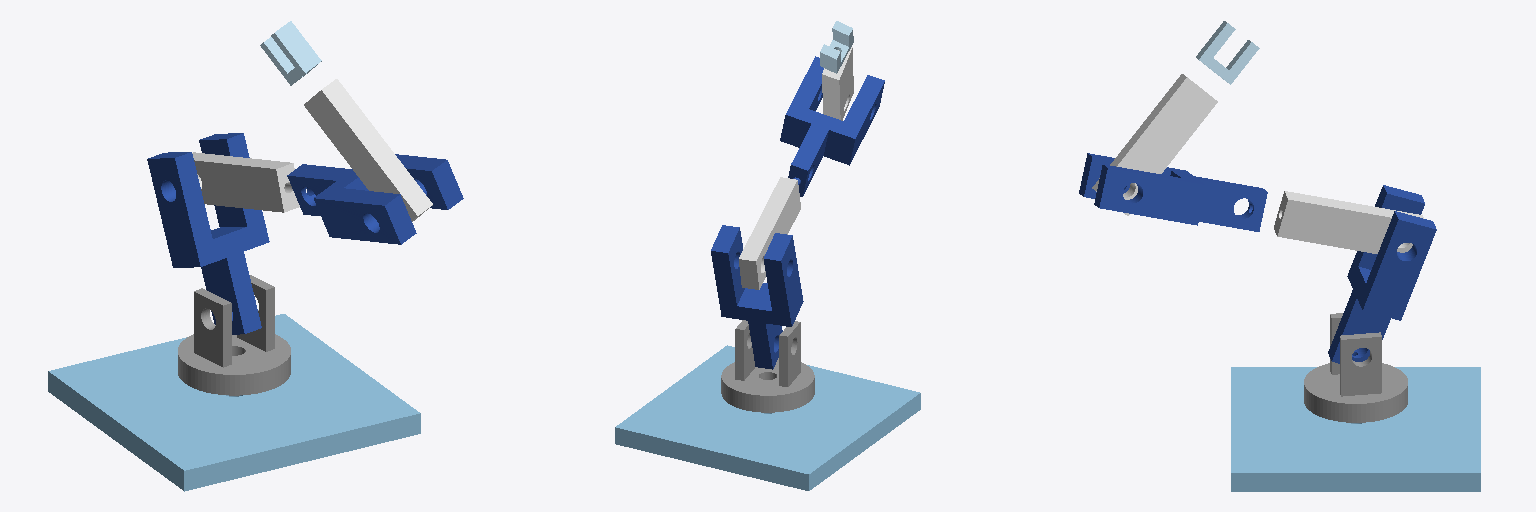
robot.urdf — mybot:
<?xml version="1.0" ?>
<!-- Generated using onshape-to-robot -->
<!-- Onshape document_id: 4af8569930bfdc776139afc6 -->
<robot name="mybot">
  <!-- Link base -->
  <link name="base">
    <inertial>
      <origin xyz="-0.0595984 0.133273 0.0193778" rpy="0 0 0"/>
      <mass value="0.375499"/>
      <inertia ixx="0.00294313" ixy="0" ixz="0" iyy="0.00294313" iyz="0" izz="0.00584588"/>
    </inertial>
    <!-- Part base -->
    <visual>
      <origin xyz="-0.0595984 0.133273 0.00667784" rpy="0 -0 0"/>
      <geometry>
        <mesh filename="package://assets/base.stl"/>
      </geometry>
      <material name="base_material">
        <color rgba="0.615686 0.811765 0.929412 1"/>
      </material>
    </visual>
    <collision>
      <origin xyz="-0.0595984 0.133273 0.00667784" rpy="0 -0 0"/>
      <geometry>
        <mesh filename="package://assets/base.stl"/>
      </geometry>
    </collision>
  </link>
  <!-- Link swivle -->
  <link name="swivle">
    <inertial>
      <origin xyz="-0 -0 -0.0232936" rpy="0 0 0"/>
      <mass value="0.0630945"/>
      <inertia ixx="9.0513e-05" ixy="-0" ixz="0" iyy="0.000101179" iyz="0" izz="0.000120893"/>
    </inertial>
    <!-- Part swivle -->
    <visual>
      <origin xyz="-0 -0 0.0508" rpy="3.14159 -0 -0"/>
      <geometry>
        <mesh filename="package://assets/swivle.stl"/>
      </geometry>
      <material name="swivle_material">
        <color rgba="0.647059 0.647059 0.647059 1"/>
      </material>
    </visual>
    <collision>
      <origin xyz="-0 -0 0.0508" rpy="3.14159 -0 -0"/>
      <geometry>
        <mesh filename="package://assets/swivle.stl"/>
      </geometry>
    </collision>
  </link>
  <!-- Link arm1 -->
  <link name="arm1">
    <inertial>
      <origin xyz="-0.0757655 -0.0589887 -0.0127" rpy="0 0 0"/>
      <mass value="0.074836"/>
      <inertia ixx="0.000166028" ixy="-9.36746e-05" ixz="-1e-12" iyy="0.000213413" iyz="-2e-12" izz="0.000227704"/>
    </inertial>
    <!-- Part arm1 -->
    <visual>
      <origin xyz="0 0.127 -0.0127" rpy="1.5708 1.5708 0"/>
      <geometry>
        <mesh filename="package://assets/arm1.stl"/>
      </geometry>
      <material name="arm1_material">
        <color rgba="0.231373 0.380392 0.705882 1"/>
      </material>
    </visual>
    <collision>
      <origin xyz="0 0.127 -0.0127" rpy="1.5708 1.5708 0"/>
      <geometry>
        <mesh filename="package://assets/arm1.stl"/>
      </geometry>
    </collision>
  </link>
  <!-- Link arm2 -->
  <link name="arm2">
    <inertial>
      <origin xyz="-0.0543508 -0.0377625 -0.0127" rpy="0 0 0"/>
      <mass value="0.0341329"/>
      <inertia ixx="3.48126e-05" ixy="-3.61968e-05" ixz="-0" iyy="6.17606e-05" iyz="0" izz="9.2858e-05"/>
    </inertial>
    <!-- Part arm2 -->
    <visual>
      <origin xyz="0.120251 0.220624 -0.0127" rpy="1.5708 1.5708 0"/>
      <geometry>
        <mesh filename="package://assets/arm2.stl"/>
      </geometry>
      <material name="arm2_material">
        <color rgba="0.917647 0.917647 0.917647 1"/>
      </material>
    </visual>
    <collision>
      <origin xyz="0.120251 0.220624 -0.0127" rpy="1.5708 1.5708 0"/>
      <geometry>
        <mesh filename="package://assets/arm2.stl"/>
      </geometry>
    </collision>
  </link>
  <!-- Link arm1_2 -->
  <link name="arm1_2">
    <inertial>
      <origin xyz="5.93e-10 3.449e-09 -0.146821" rpy="0 0 0"/>
      <mass value="0.074836"/>
      <inertia ixx="0.000231417" ixy="1.42814e-05" ixz="-6e-12" iyy="0.000282632" iyz="-2.9e-11" izz="9.30962e-05"/>
    </inertial>
    <!-- Part arm1_2 -->
    <visual>
      <origin xyz="0.0252163 0.0969847 0.0272198" rpy="2.23233 -0 -0.254371"/>
      <geometry>
        <mesh filename="package://assets/arm1.stl"/>
      </geometry>
      <material name="arm1_2_material">
        <color rgba="0.231373 0.380392 0.705882 1"/>
      </material>
    </visual>
    <collision>
      <origin xyz="0.0252163 0.0969847 0.0272198" rpy="2.23233 -0 -0.254371"/>
      <geometry>
        <mesh filename="package://assets/arm1.stl"/>
      </geometry>
    </collision>
  </link>
  <!-- Link arm2_2 -->
  <link name="arm2_2">
    <inertial>
      <origin xyz="-0.0543508 -0.0377625 -0.0127" rpy="0 0 0"/>
      <mass value="0.0341329"/>
      <inertia ixx="3.48126e-05" ixy="-3.61968e-05" ixz="0" iyy="6.17606e-05" iyz="0" izz="9.2858e-05"/>
    </inertial>
    <!-- Part arm2_2 -->
    <visual>
      <origin xyz="0.120251 0.220624 -0.0127" rpy="1.5708 1.5708 0"/>
      <geometry>
        <mesh filename="package://assets/arm2.stl"/>
      </geometry>
      <material name="arm2_2_material">
        <color rgba="0.917647 0.917647 0.917647 1"/>
      </material>
    </visual>
    <collision>
      <origin xyz="0.120251 0.220624 -0.0127" rpy="1.5708 1.5708 0"/>
      <geometry>
        <mesh filename="package://assets/arm2.stl"/>
      </geometry>
    </collision>
  </link>
  <!-- Link hand -->
  <link name="hand">
    <inertial>
      <origin xyz="-0 -0 -0.0252044" rpy="0 0 0"/>
      <mass value="0.00695227"/>
      <inertia ixx="2.44576e-06" ixy="-0" ixz="0" iyy="4.34857e-06" iyz="-0" izz="2.67285e-06"/>
    </inertial>
    <!-- Part hand -->
    <visual>
      <origin xyz="0.00580608 0.15067 0.407774" rpy="2.17802 -0 -0"/>
      <geometry>
        <mesh filename="package://assets/hand.stl"/>
      </geometry>
      <material name="hand_material">
        <color rgba="0.768627 0.886275 0.952941 1"/>
      </material>
    </visual>
    <collision>
      <origin xyz="0.00580608 0.15067 0.407774" rpy="2.17802 -0 -0"/>
      <geometry>
        <mesh filename="package://assets/hand.stl"/>
      </geometry>
    </collision>
  </link>
  <!-- Joint from arm2_2 to hand -->
  <joint name="wrist5" type="revolute">
    <origin xyz="-0.146016 -0.101451 -0.0127" rpy="1.5708 -0.103846 2.17802"/>
    <parent link="arm2_2"/>
    <child link="hand"/>
    <axis xyz="0 0 1"/>
    <limit effort="10" velocity="10" lower="-3.141592653589793" upper="3.141592653589793"/>
  </joint>
  <!-- Joint from arm1_2 to arm2_2 -->
  <joint name="joint4" type="revolute">
    <origin xyz="-0.0122913 0.00319579 -0.2032" rpy="1.5708 1.08193 -1.82517"/>
    <parent link="arm1_2"/>
    <child link="arm2_2"/>
    <axis xyz="0 0 1"/>
    <limit effort="10" velocity="10" lower="-3.141592653589793" upper="3.141592653589793"/>
  </joint>
  <!-- Joint from arm2 to arm1_2 -->
  <joint name="wrist3" type="revolute">
    <origin xyz="-0.125156 -0.0869577 -0.0127" rpy="-0.607222 1.5708 0"/>
    <parent link="arm2"/>
    <child link="arm1_2"/>
    <axis xyz="0 0 1"/>
    <limit effort="10" velocity="10" lower="-3.141592653589793" upper="3.141592653589793"/>
  </joint>
  <!-- Joint from arm1 to arm2 -->
  <joint name="joint2" type="revolute">
    <origin xyz="-0.120251 -0.0936238 -0" rpy="0 0 1.71304"/>
    <parent link="arm1"/>
    <child link="arm2"/>
    <axis xyz="0 0 1"/>
    <limit effort="10" velocity="10" lower="-3.141592653589793" upper="3.141592653589793"/>
  </joint>
  <!-- Joint from swivle to arm1 -->
  <joint name="joint1" type="revolute">
    <origin xyz="-0.0127 0 -0.0762" rpy="1.5708 -0.550725 -1.5708"/>
    <parent link="swivle"/>
    <child link="arm1"/>
    <axis xyz="0 0 1"/>
    <limit effort="10" velocity="10" lower="-3.141592653589793" upper="3.141592653589793"/>
  </joint>
  <!-- Joint from base to swivle -->
  <joint name="base_rot" type="revolute">
    <origin xyz="-0.0595984 0.133273 0.0574778" rpy="3.14159 -0 -2.95606"/>
    <parent link="base"/>
    <child link="swivle"/>
    <axis xyz="0 0 1"/>
    <limit effort="10" velocity="10" lower="-3.141592653589793" upper="3.141592653589793"/>
  </joint>
</robot>

--- Facts derived from the render (not from the file) ---
Views: 3 orthographic renders of the robot side by side, from view 1: azimuth 30°, elevation 25°; view 2: azimuth 150°, elevation 25°; view 3: azimuth 270°, elevation 25°.
Model mybot with 7 links and 6 joints (6 revolute), rooted at base, posed all joints at 0.
Links seen in each view (by area): view 1: base, arm1, swivle, arm1_2, arm2_2, arm2, hand; view 2: base, arm1, arm1_2, swivle, arm2, arm2_2, hand; view 3: base, arm1, arm1_2, swivle, arm2, arm2_2, hand.
Boxes of the visible links, bbox=[...] form: base: bbox=[48, 314, 420, 491]; arm1: bbox=[147, 133, 269, 334]; swivle: bbox=[178, 275, 290, 395]; arm1_2: bbox=[287, 154, 463, 244]; arm2_2: bbox=[304, 79, 432, 221]; arm2: bbox=[192, 152, 299, 212]; hand: bbox=[260, 21, 321, 85]; base: bbox=[615, 345, 920, 490]; arm1: bbox=[711, 225, 803, 369]; arm1_2: bbox=[780, 56, 884, 196]; swivle: bbox=[721, 320, 814, 412]; arm2: bbox=[739, 177, 800, 289]; arm2_2: bbox=[822, 47, 853, 120]; hand: bbox=[820, 21, 853, 73]; base: bbox=[1231, 367, 1480, 491]; arm1: bbox=[1328, 185, 1436, 363]; arm1_2: bbox=[1079, 153, 1267, 231]; swivle: bbox=[1304, 313, 1407, 422]; arm2: bbox=[1274, 191, 1423, 253]; arm2_2: bbox=[1092, 74, 1217, 215]; hand: bbox=[1196, 21, 1259, 84].
Bounding box of the posed robot: 0.3048 × 0.4904 × 0.551 m (x, y, z).
7 mesh visuals loaded from 5 distinct referenced files (5 binary STL).
